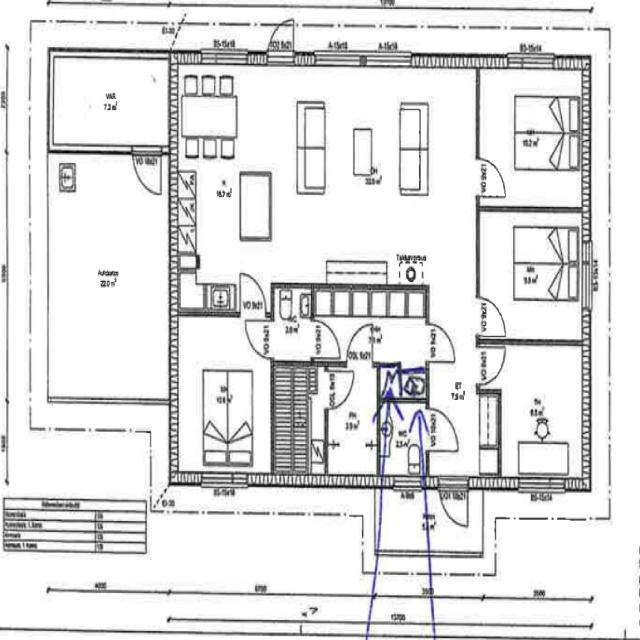door: (439, 476, 467, 530), (426, 408, 458, 451), (268, 12, 294, 63), (240, 273, 266, 316), (476, 298, 505, 336), (476, 158, 505, 196), (426, 324, 455, 362), (325, 371, 354, 409), (347, 324, 372, 366), (246, 321, 274, 358), (311, 320, 339, 357), (476, 348, 504, 384)
